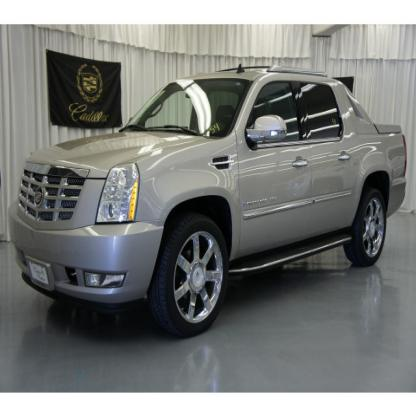Vehicle: (11, 62, 410, 338)
